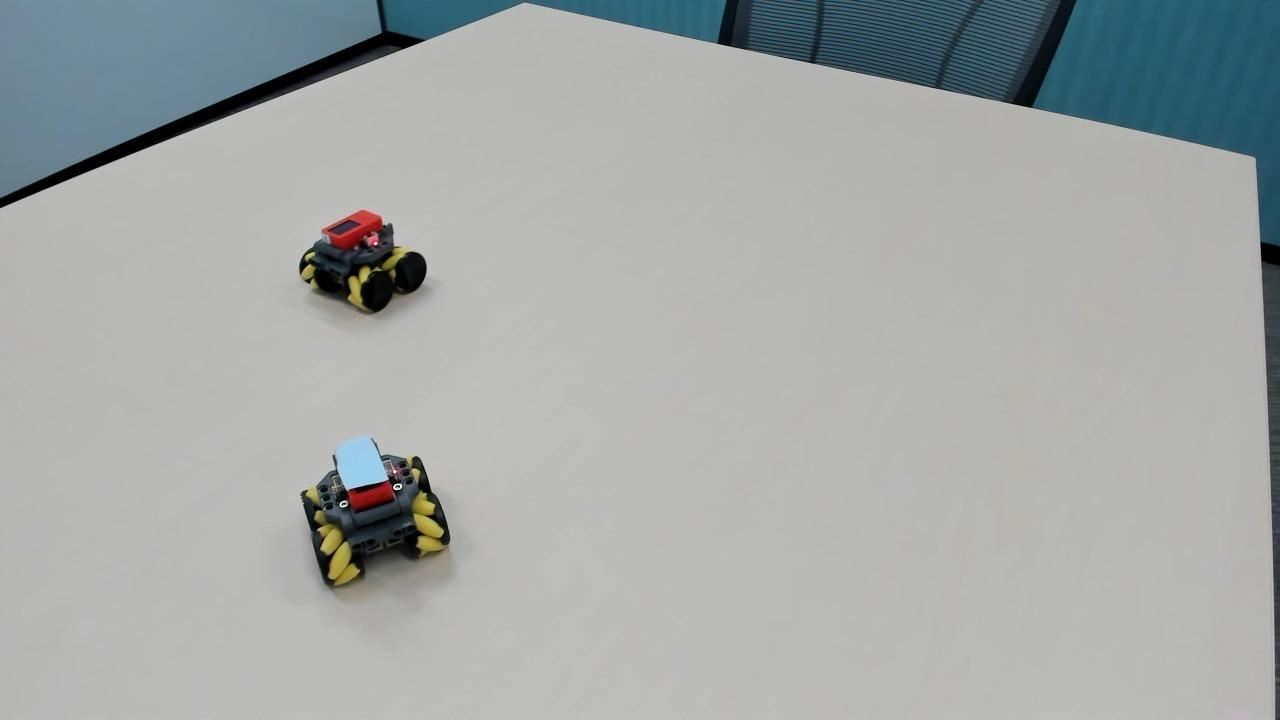B-Robot: (279, 428, 466, 601)
R-Robot: (289, 204, 439, 321)
